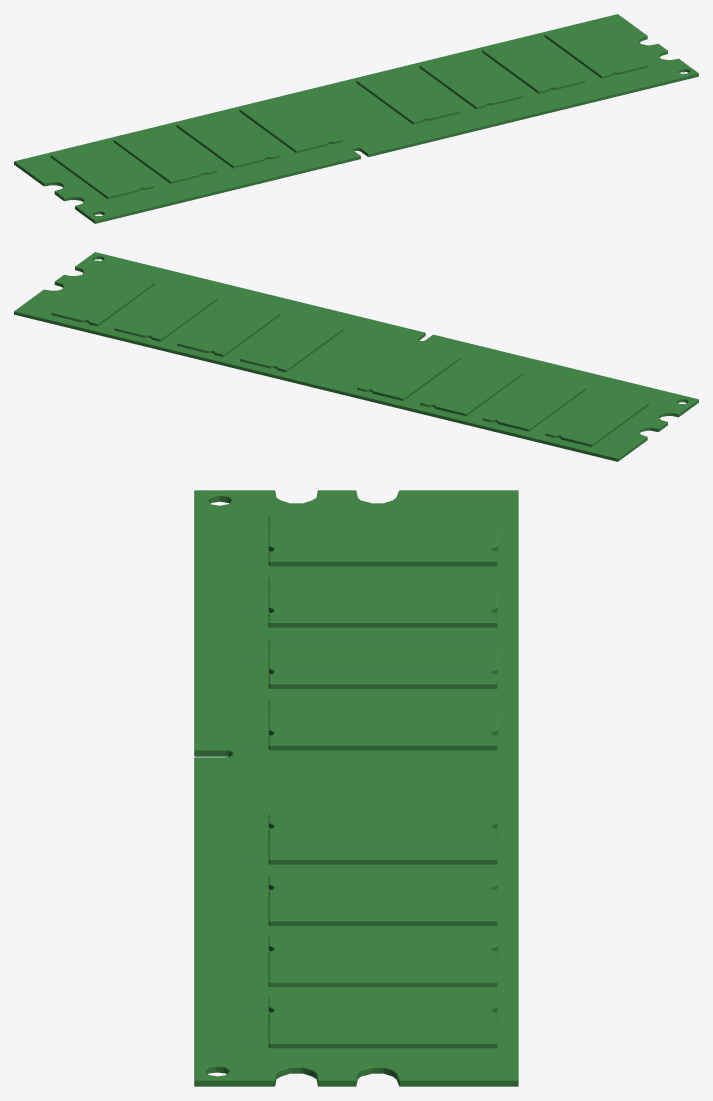
File: DDR3_RAM.fbx
The picture shows the model from 3 angles, top to bottom: view 1: azimuth 30°, elevation 25°; view 2: azimuth 150°, elevation 25°; view 3: azimuth 270°, elevation 25°; orthographic projection. The views are drawn at different scales.
Visible parts, largest first — view 1: RAM; view 2: RAM; view 3: RAM.
Boxes of the visible parts, x1,y1,x2,y2 form: RAM: (14, 14, 698, 223); RAM: (14, 252, 698, 461); RAM: (194, 490, 518, 1086).
Bounding box in the file's own units: 527 × 7.28 × 123.
